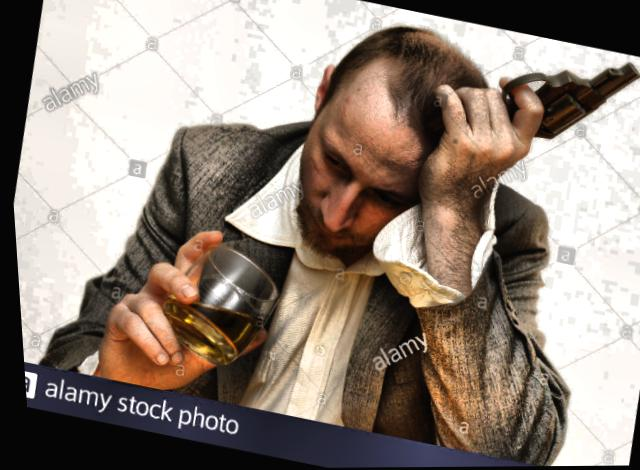pistol: (402, 16, 640, 195)
